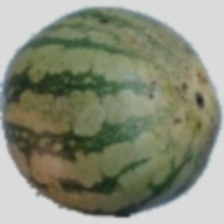watermelon: (26, 0, 187, 187)
